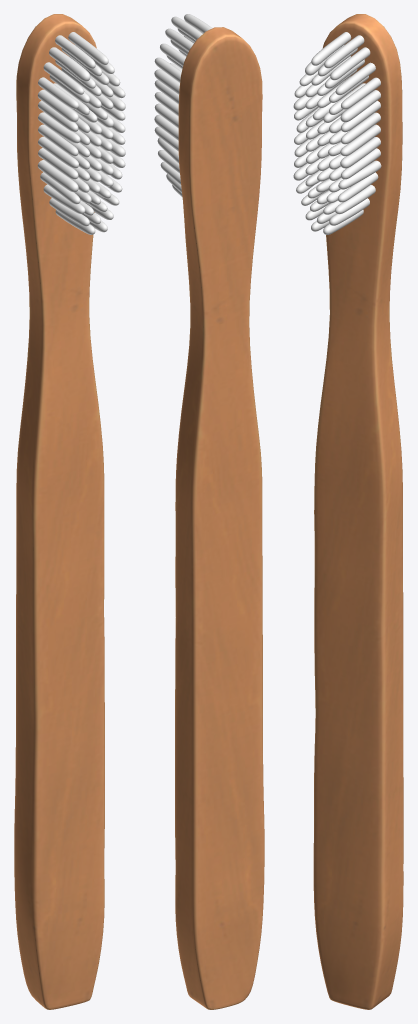
File: toothbrush_textured.obj
3 renders of one model, left to right at view 1: azimuth 30°, elevation 25°; view 2: azimuth 210°, elevation 25°; view 3: azimuth 330°, elevation 25°, orthographic.
Visible parts, largest first — view 1: textureEditorIsolateSelectSet handler_HIGEO All, All brush_HIGEO; view 2: textureEditorIsolateSelectSet handler_HIGEO All, All brush_HIGEO; view 3: textureEditorIsolateSelectSet handler_HIGEO All, All brush_HIGEO.
Part boxes in pixels (<box>): textureEditorIsolateSelectSet handler_HIGEO All: <box>14,14,104,1009</box>; All brush_HIGEO: <box>37,32,125,234</box>; textureEditorIsolateSelectSet handler_HIGEO All: <box>175,27,264,1009</box>; All brush_HIGEO: <box>154,14,212,197</box>; textureEditorIsolateSelectSet handler_HIGEO All: <box>313,14,403,1009</box>; All brush_HIGEO: <box>293,32,381,234</box>.
Bounding box in the file's own units: 1.59 × 20.03 × 1.93.
1 material, 1 textured.
